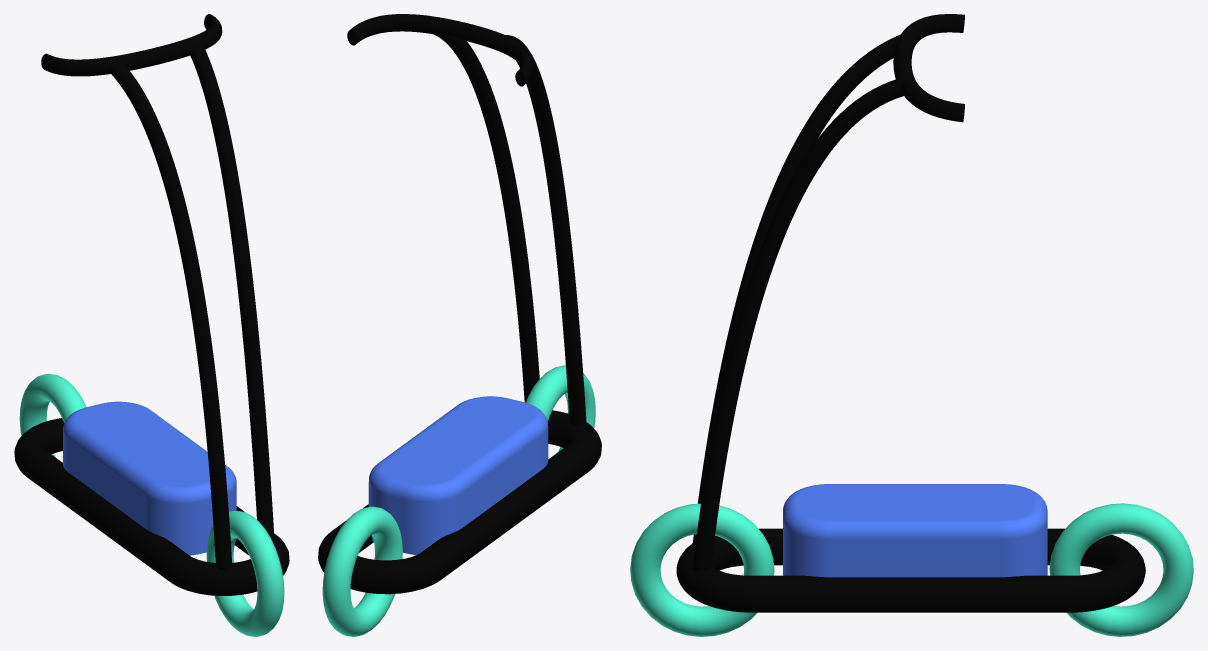
Rendered from 80Scooter.fbx.
The picture shows the model from 3 angles, left to right: view 1: azimuth 30°, elevation 25°; view 2: azimuth 150°, elevation 25°; view 3: azimuth 270°, elevation 25°; orthographic projection. The views are drawn at different scales.
Visible parts, largest first — view 1: Object_1, Object_7, Object_3, Object_2, Object_5, Object_4, Object_6; view 2: Object_1, Object_7, Object_2, Object_3, Object_6, Object_4, Object_5; view 3: Object_1, Object_7, Object_2, Object_6, Object_5, Object_3, Object_4.
Part boxes in pixels (<box>): Object_1: <box>63,401,236,555</box>; Object_7: <box>14,418,289,595</box>; Object_3: <box>110,61,232,570</box>; Object_2: <box>190,36,274,546</box>; Object_5: <box>206,510,284,636</box>; Object_4: <box>41,14,222,76</box>; Object_6: <box>19,373,86,457</box>; Object_1: <box>368,396,548,554</box>; Object_7: <box>318,410,601,594</box>; Object_2: <box>426,15,539,402</box>; Object_3: <box>505,35,586,425</box>; Object_6: <box>322,506,402,636</box>; Object_4: <box>347,14,533,86</box>; Object_5: <box>525,365,595,451</box>; Object_1: <box>783,484,1047,577</box>; Object_7: <box>676,528,1145,612</box>; Object_2: <box>692,77,908,571</box>; Object_6: <box>1049,503,1193,636</box>; Object_5: <box>630,503,774,636</box>; Object_3: <box>692,34,901,545</box>; Object_4: <box>893,14,964,122</box>.
Size of the model in its own units: 78.25 by 197 by 224.
